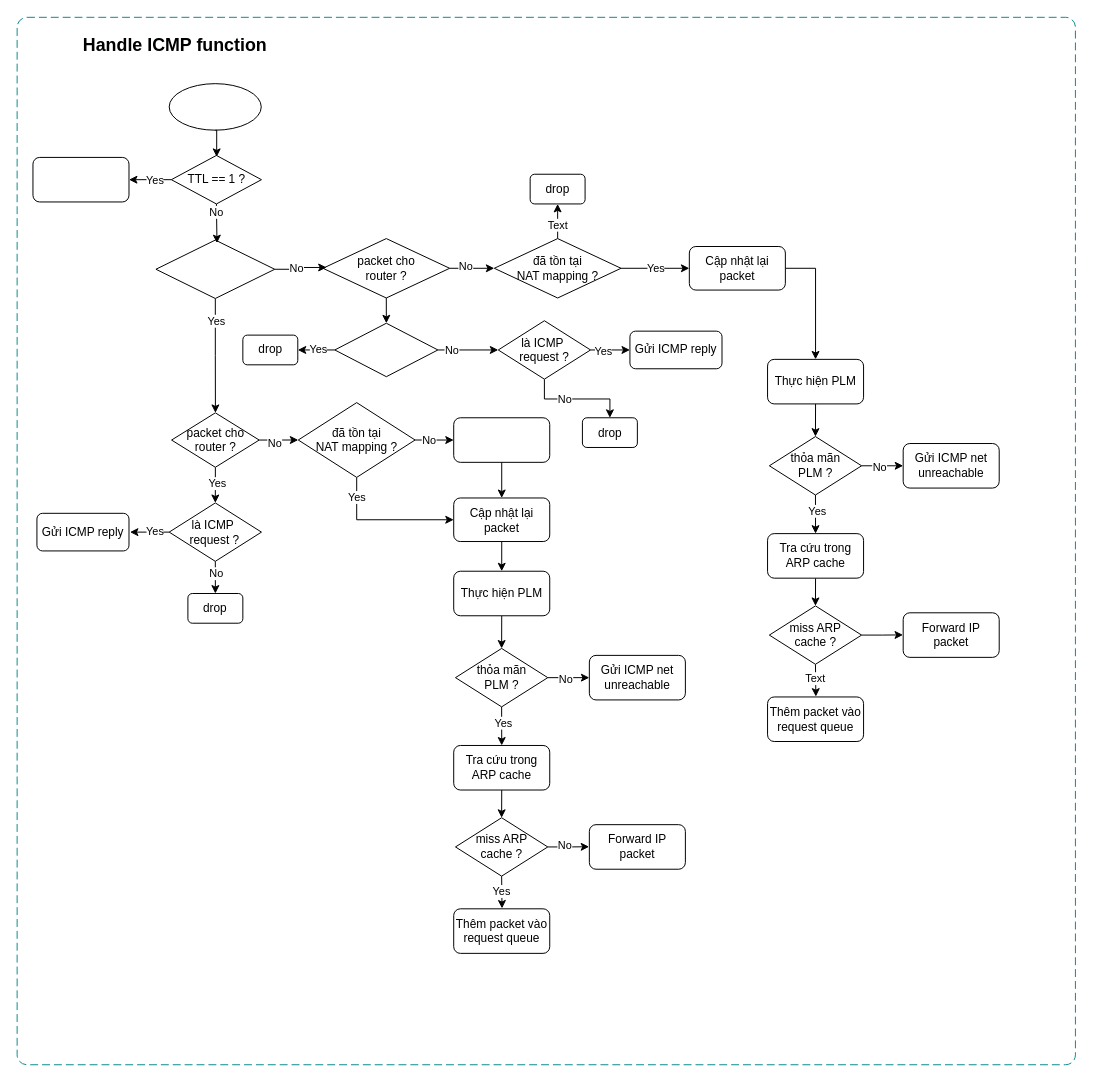
Image size: 1093x1082. Some labels were removed from this diagram. Each missing label, with the centre of its shape:
"cho internal router ?" goes at pixel 386 349.
"Gửi ICMP time exceeded" goes at pixel 80 179.
"packet nhận từ LAN ?" goes at pixel 215 268.
"Start" goes at pixel 214 106.
"Thêm 1 NAT mapping" goes at pixel 501 439.
